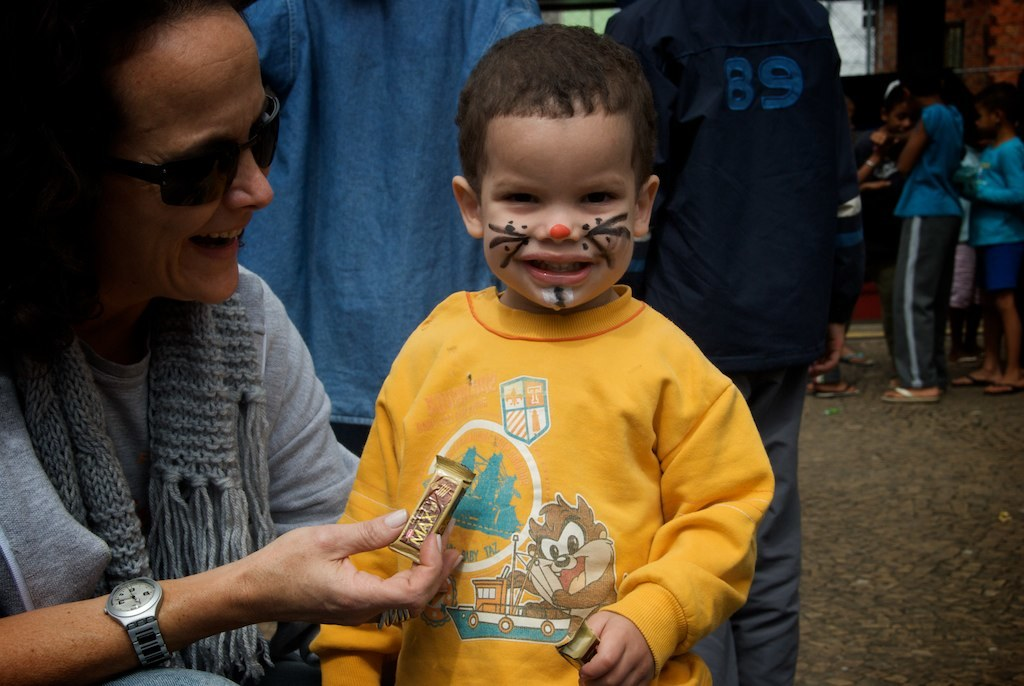Human_hand: (161, 503, 422, 656), (582, 612, 658, 685), (869, 133, 890, 154)
